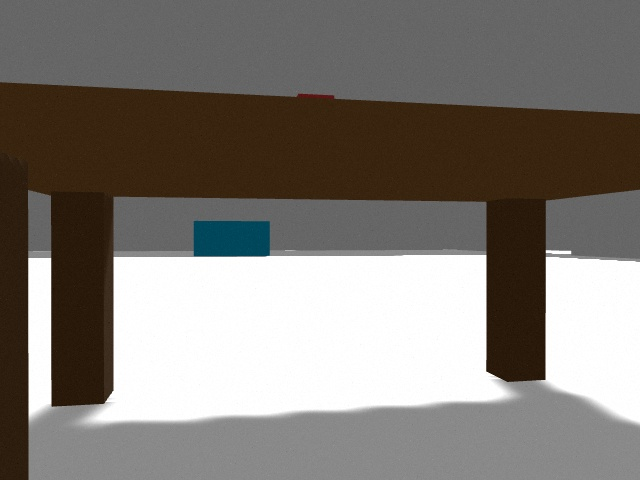blue_drop_zone: (194, 221, 270, 256)
